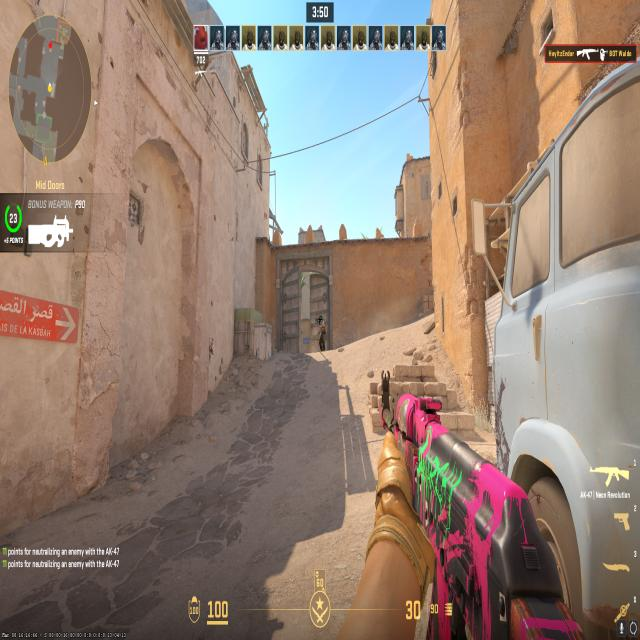t: (313, 312, 329, 354)
